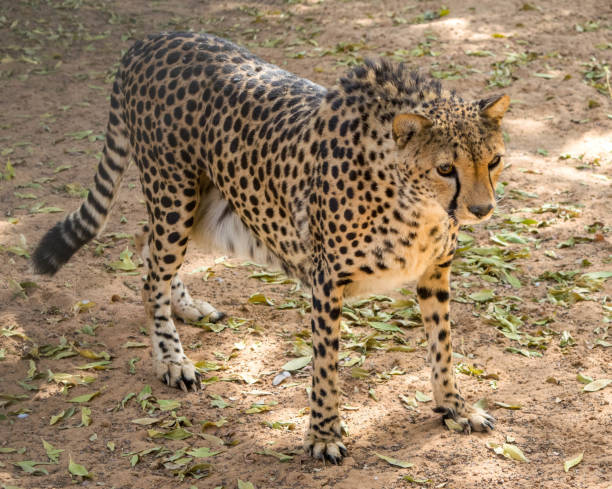cheetah: (383, 81, 521, 236)
